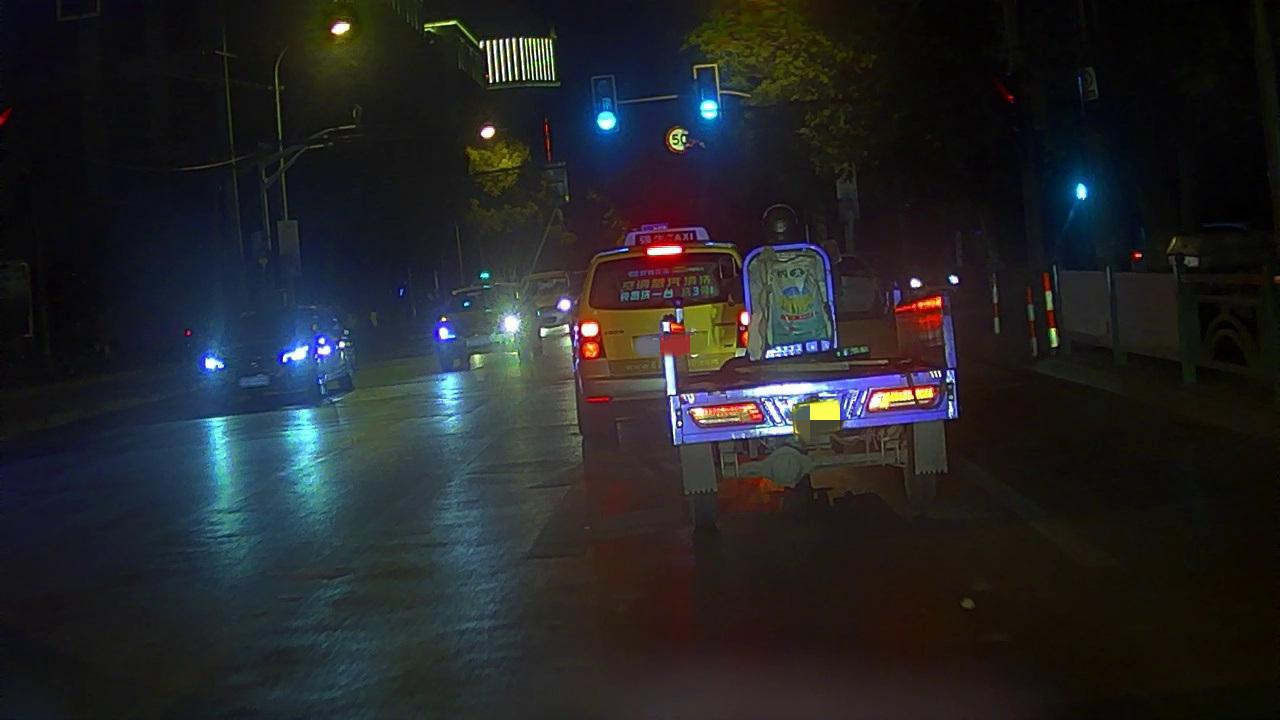traffic_light: (696, 63, 721, 127), (593, 76, 619, 136)
